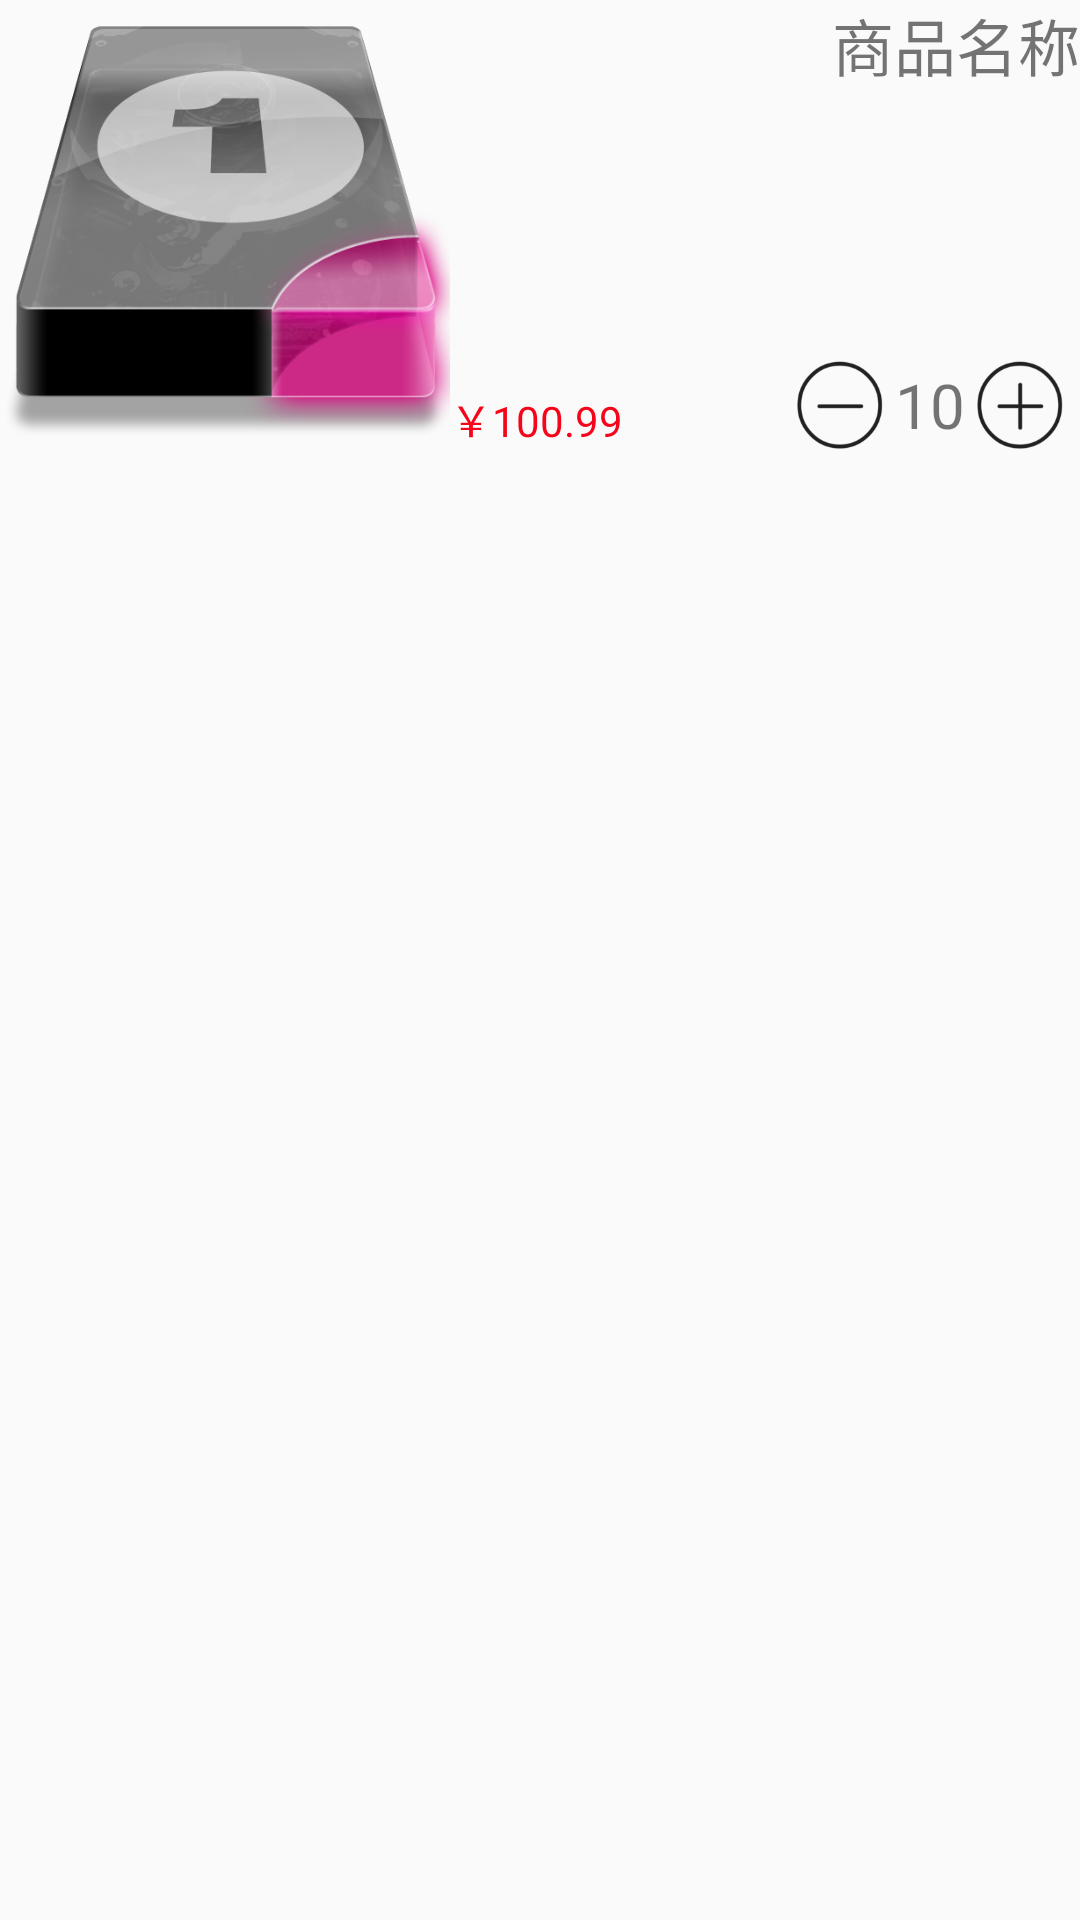

Icons on this 1080x1920 Android screen, each with the point to tap as [x,y]:
add: [1020,405]
subtract: [839,405]
